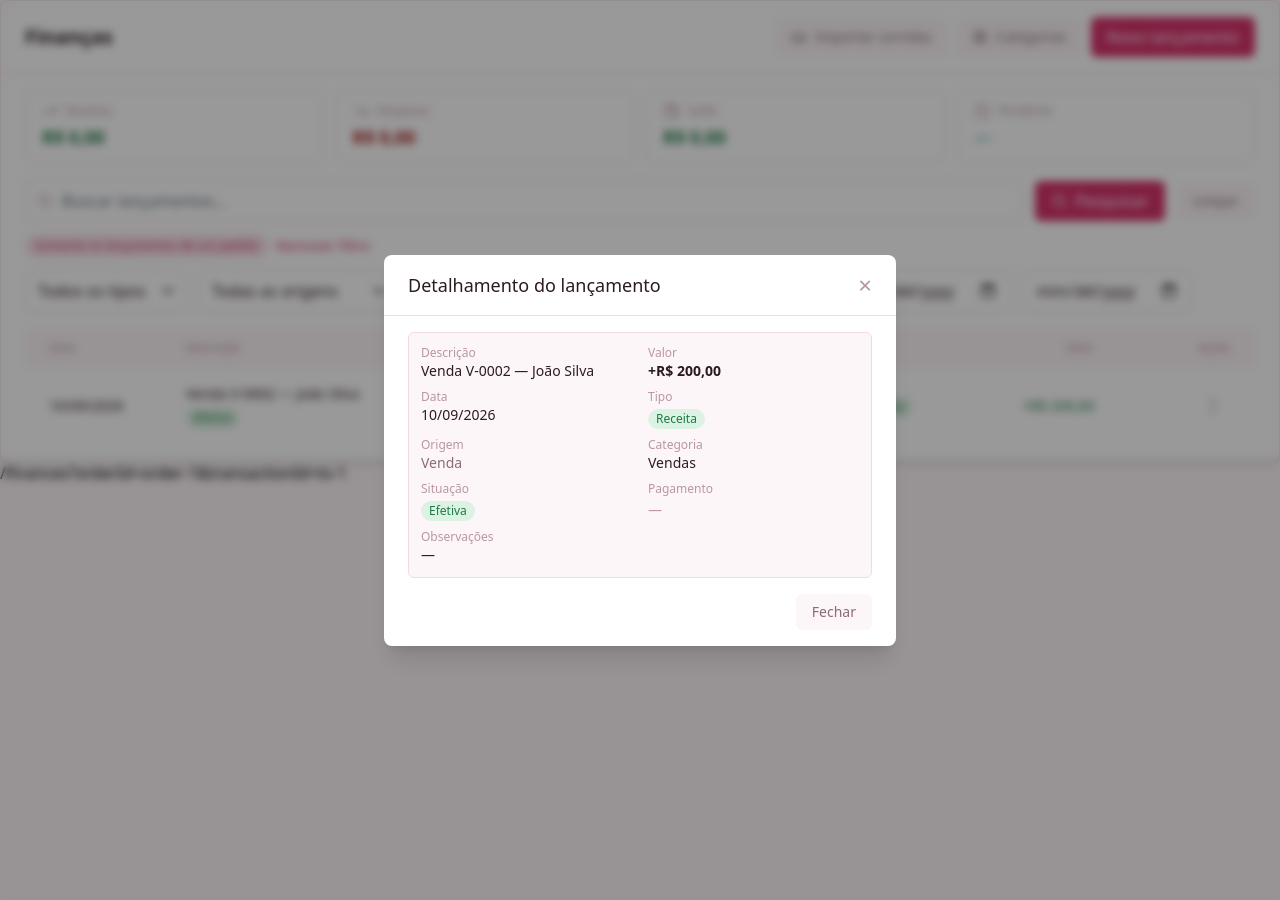
Finances deep links › transactionId deep link › clears the transactionId param when the modal is closed
Expected: the text "Venda V-0002 — João Silva" below "Somente os lançamentos de um pedido" is shown, [186, 384, 359, 403]
What coordinates should you click on to do the following:
click the button named "Fechar detalhamento"
I would click on:
 (865, 284)
Its box is [858, 272, 872, 296].
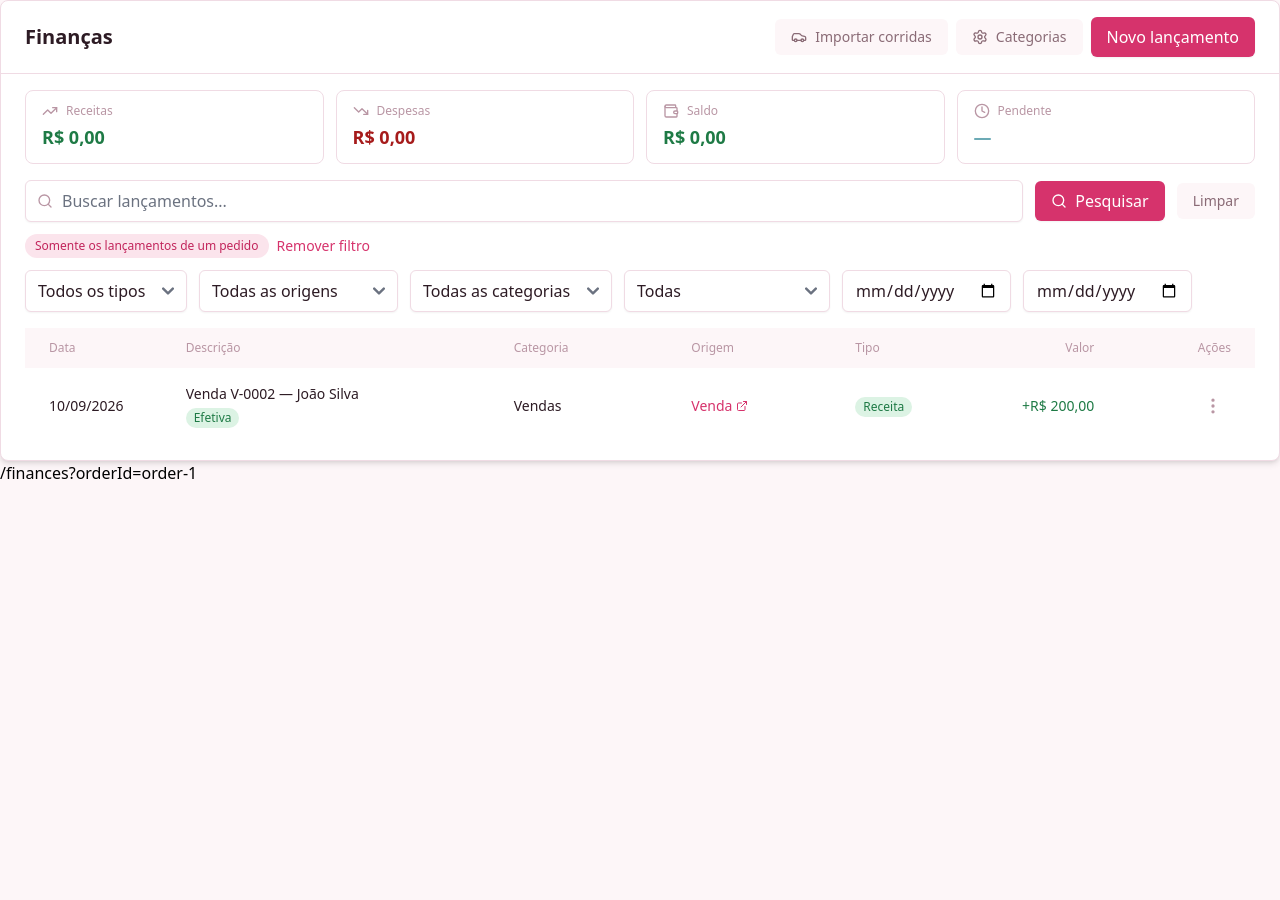
Expected: the element with test id "transaction-details-modal" is gone
Expected: the text with test id "route-probe" reads "/finances?orderId=order-1", [0, 462, 197, 484]
